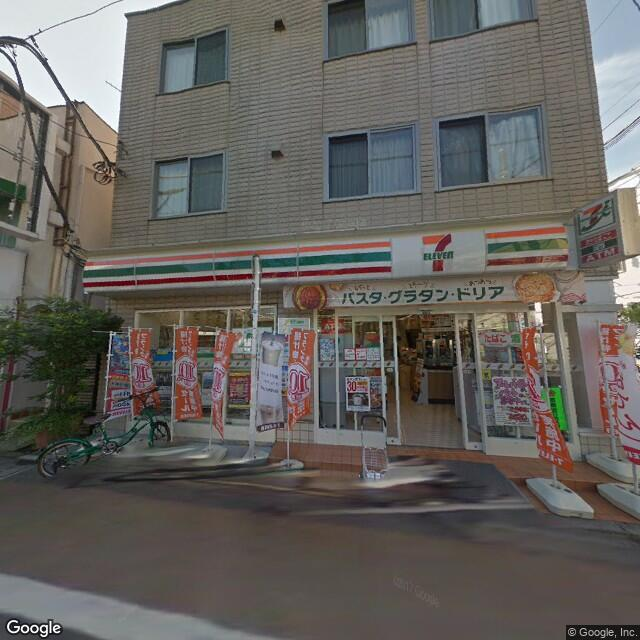7-eleven: (79, 215, 573, 297), (578, 187, 623, 236)
